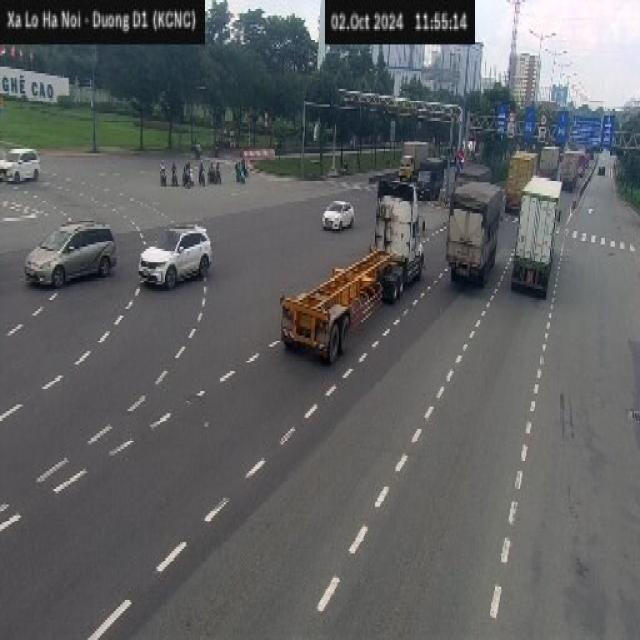car: (24, 218, 116, 286), (138, 222, 212, 289), (0, 147, 40, 182), (321, 198, 354, 231)
container-truck: (276, 172, 426, 374)
truck: (510, 173, 562, 298), (445, 180, 501, 287)
